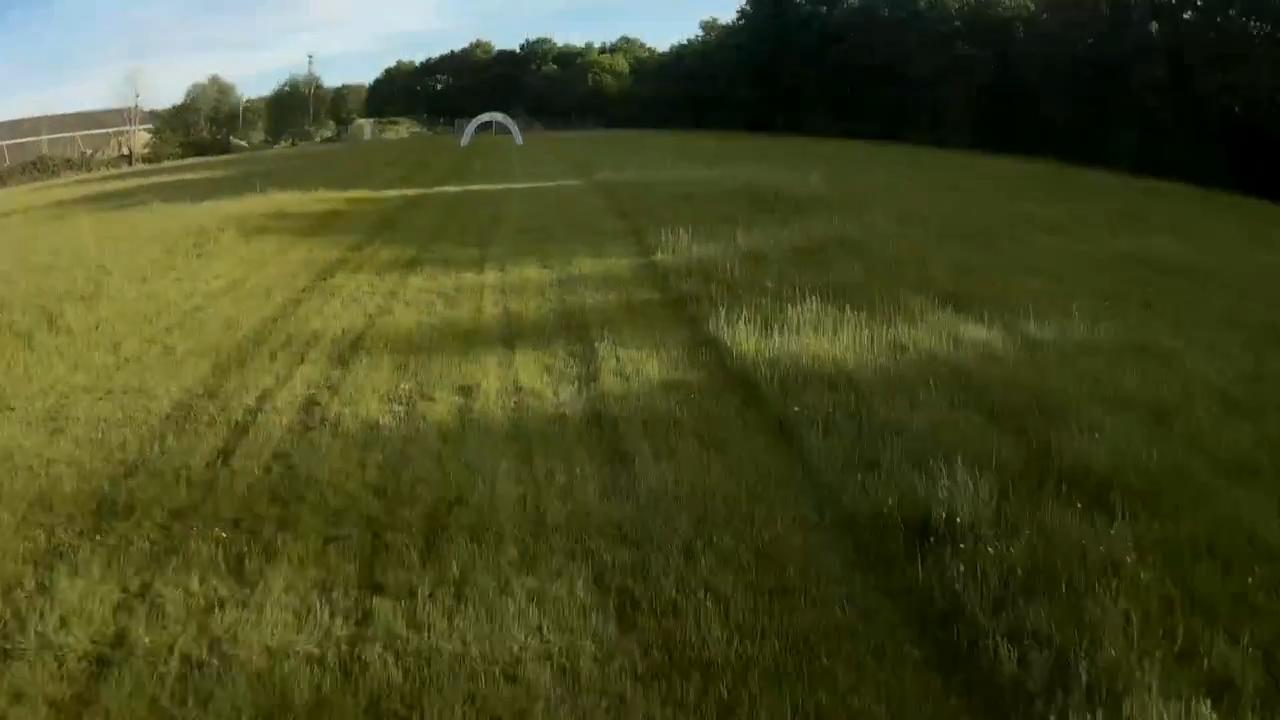gate: (459, 110, 527, 152)
